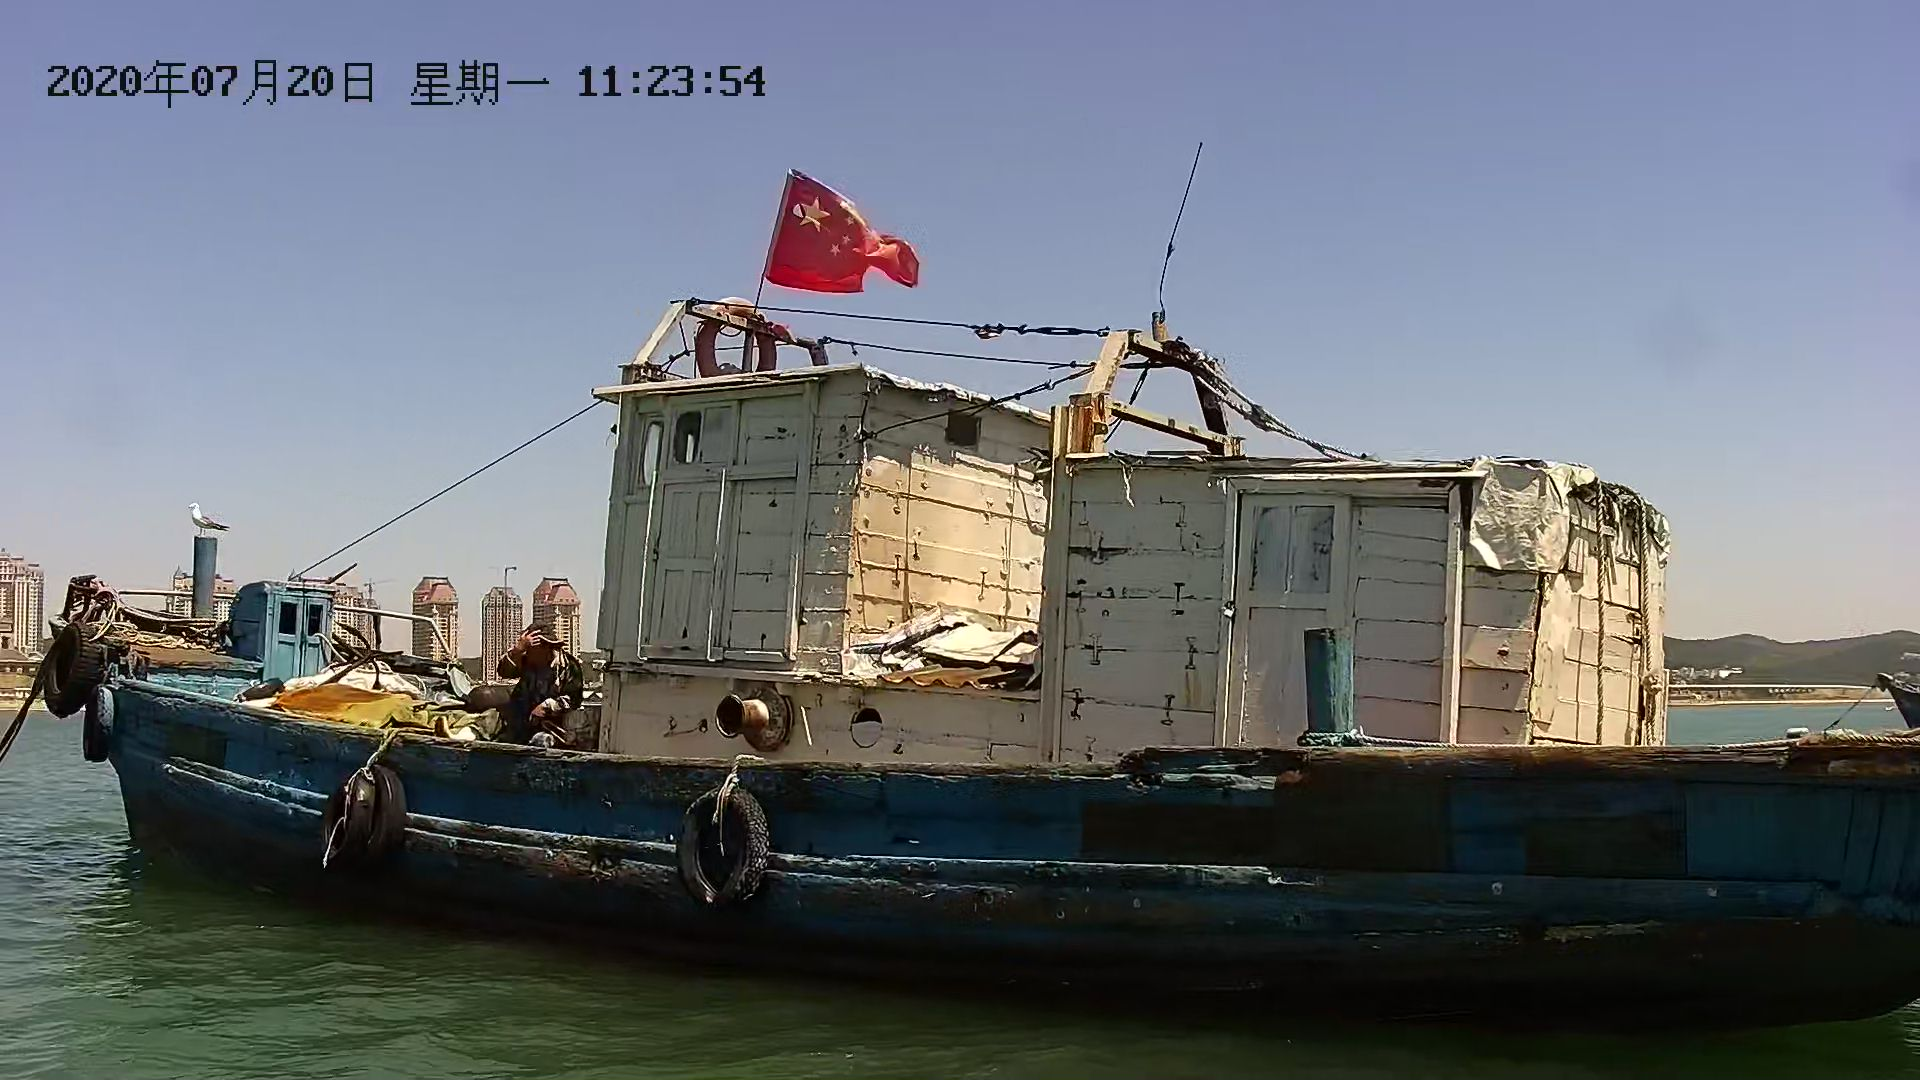boat: (56, 200, 1893, 1001)
person: (475, 606, 609, 750)
